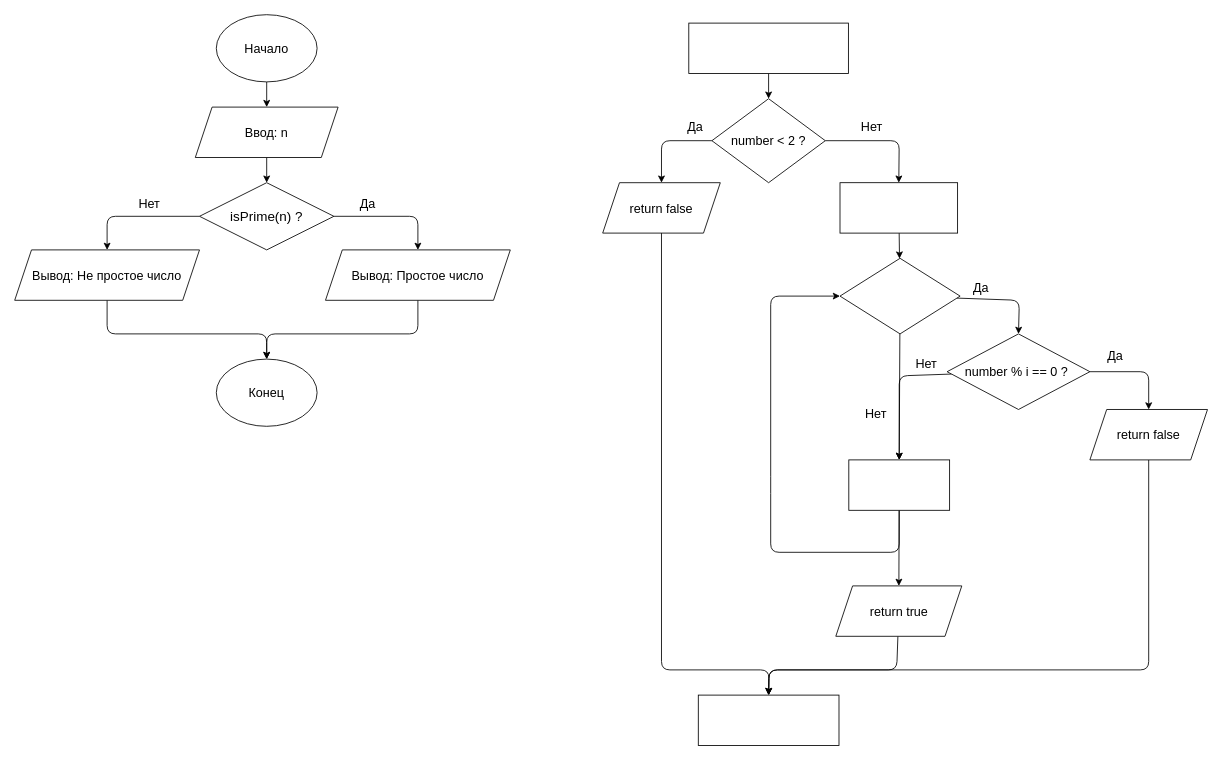
Image size: 1222x760. Some labels were removed from this diagram. Each missing label, with the centre of its shape:
"i += 1" belongs at [899,484].
"i < number ?" belongs at [899,295].
"i = 2" belongs at [898,207].
"Конец isPrime(n)" belongs at [768,720].
"НАЧАЛО isPrime(n)" belongs at [768,48].
